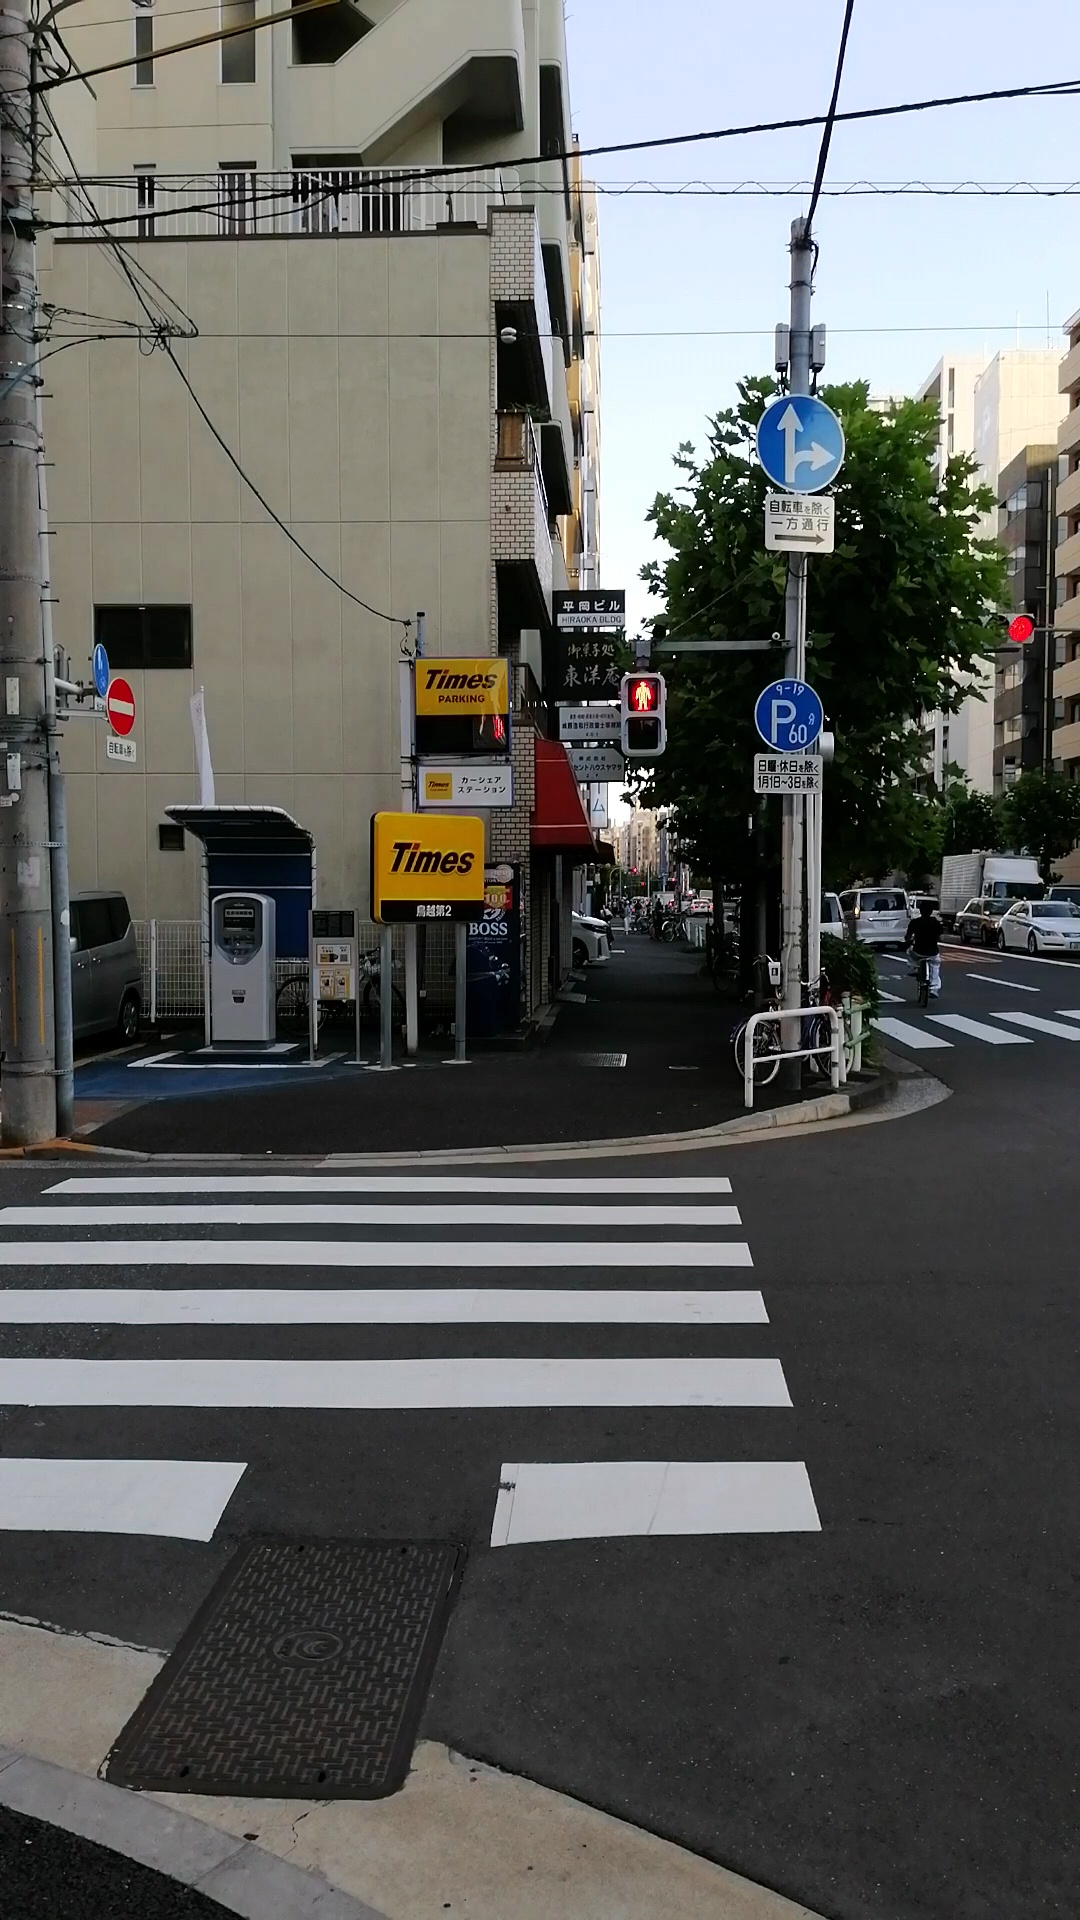red: (620, 673, 667, 760)
